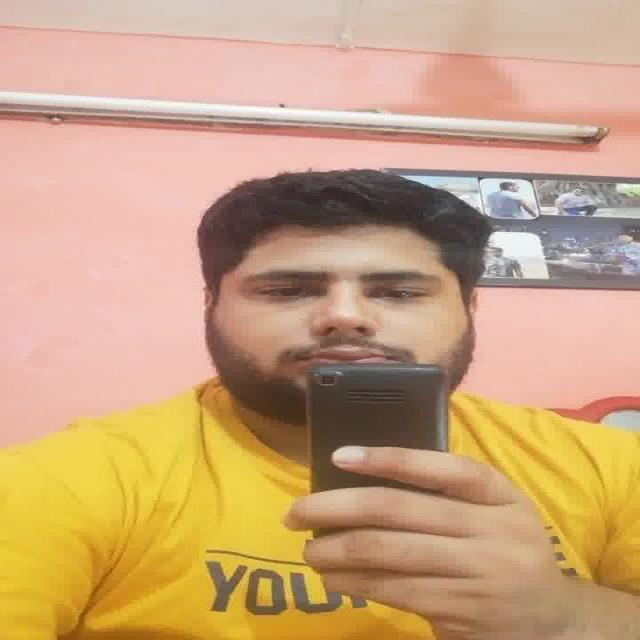Phone: (307, 364, 451, 492)
